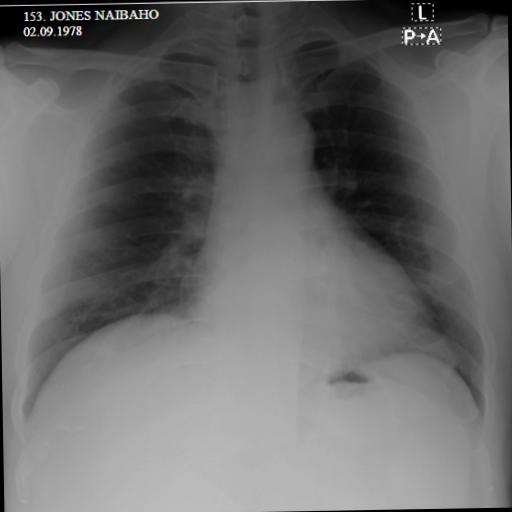kardiomegali: (8, 20, 494, 430)
